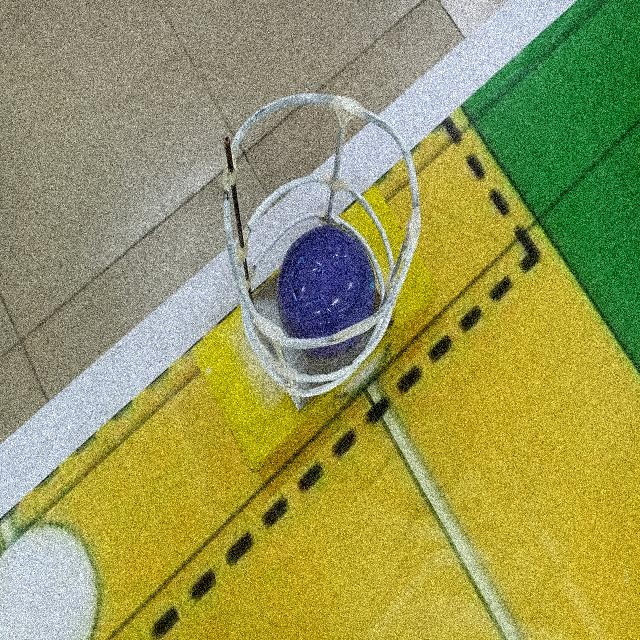purple_ball: (282, 224, 373, 349)
silo: (223, 96, 421, 403)
